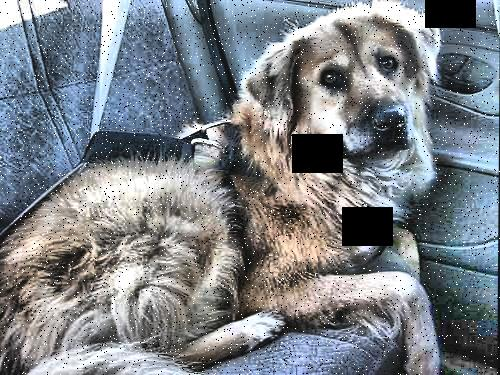seatbelt: (57, 6, 133, 148)
